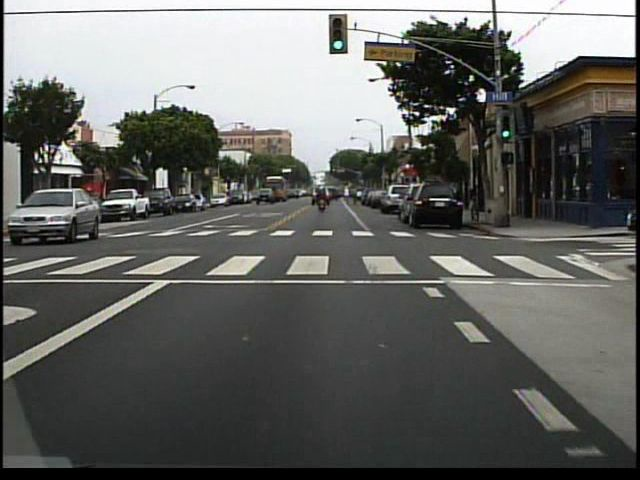person: (315, 187, 328, 214)
